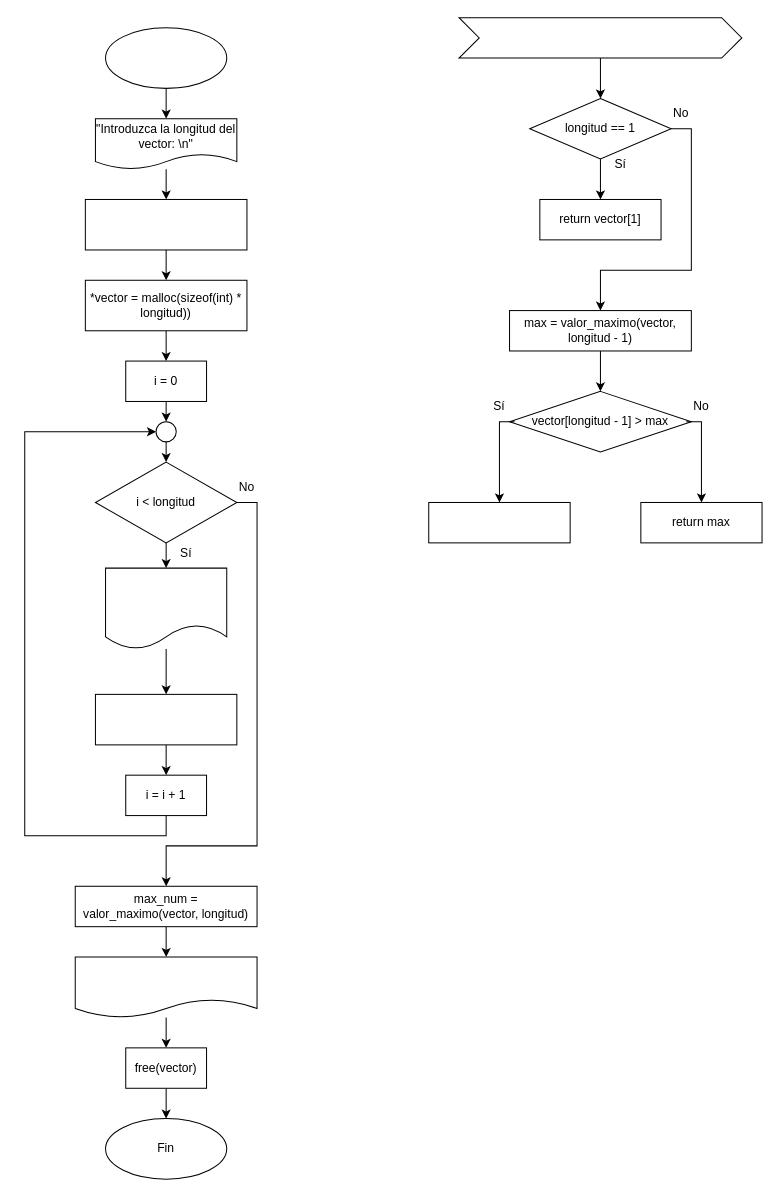
This 780x1197 diagram has some shape labels left out. Each missing label, with the centre of its shape:
"El valor maximo del vector es: %d\n", max_num: the point at 165,987
"Introduzca el valor para la posicion %d del vector\n", i: the point at 166,608
Inicio: the point at 166,57
int valor_maximo(int *vector, int longitud): the point at 600,37
longitud = validar_int_min(1);: the point at 165,224
return vector[longitud - 1]: the point at 499,522
vector[i] = validar_int(): the point at 165,719
